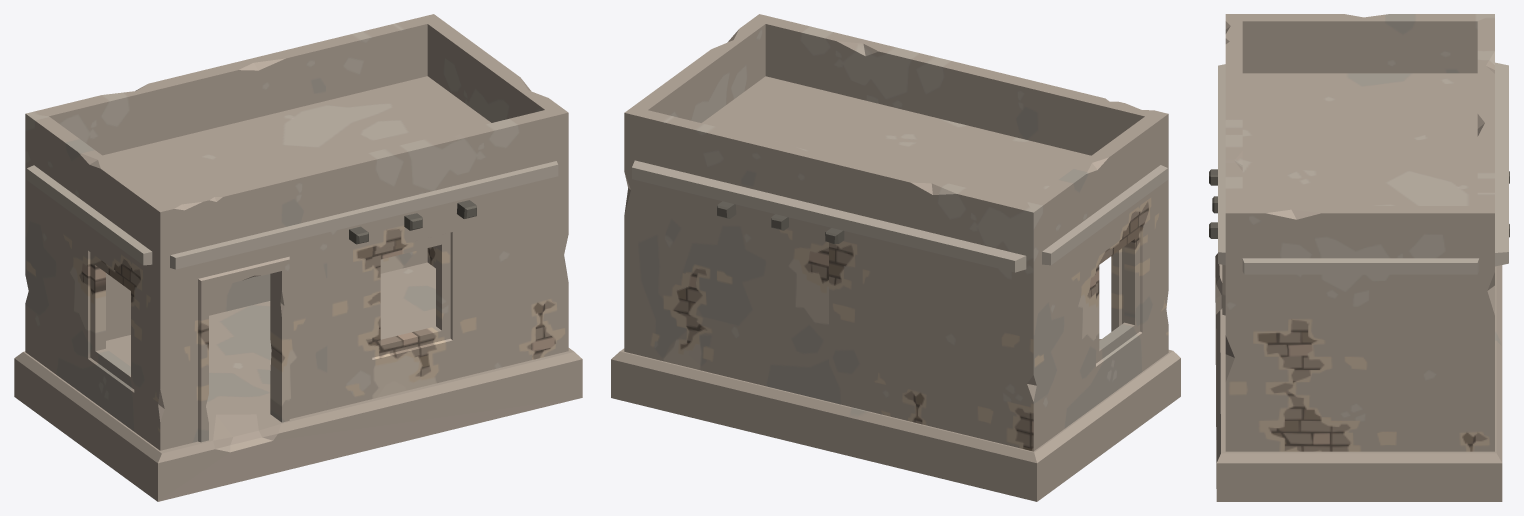
File: SM_Bld_Village_House_05.glb
3 views of the same model, side by side, from view 1: azimuth 30°, elevation 25°; view 2: azimuth 150°, elevation 25°; view 3: azimuth 270°, elevation 25° (orthographic).
Visible parts, largest first — view 1: SM_Bld_Village_House_05; view 2: SM_Bld_Village_House_05; view 3: SM_Bld_Village_House_05.
Part boxes in pixels (bbox=[...]): SM_Bld_Village_House_05: bbox=[14, 14, 582, 501]; SM_Bld_Village_House_05: bbox=[611, 14, 1180, 501]; SM_Bld_Village_House_05: bbox=[1209, 14, 1509, 501].
Size of the model in its own units: 7.18 by 4.58 by 4.39.
1 material, 1 textured.
